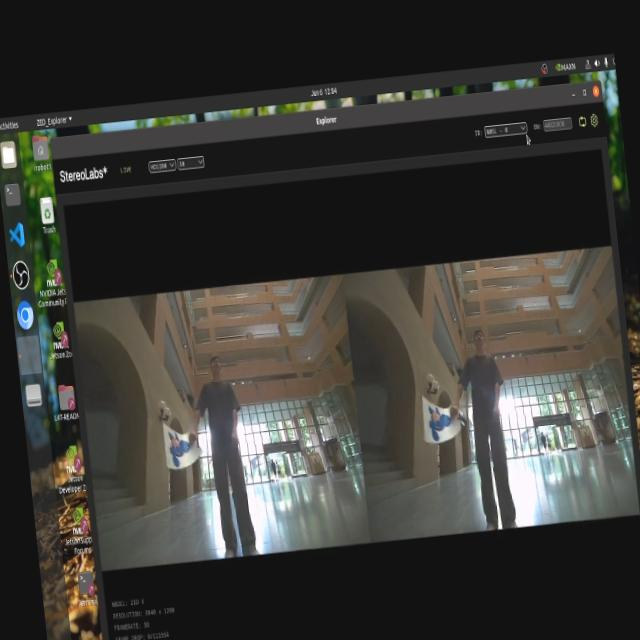blue: (422, 410, 460, 456), (170, 434, 198, 470)
